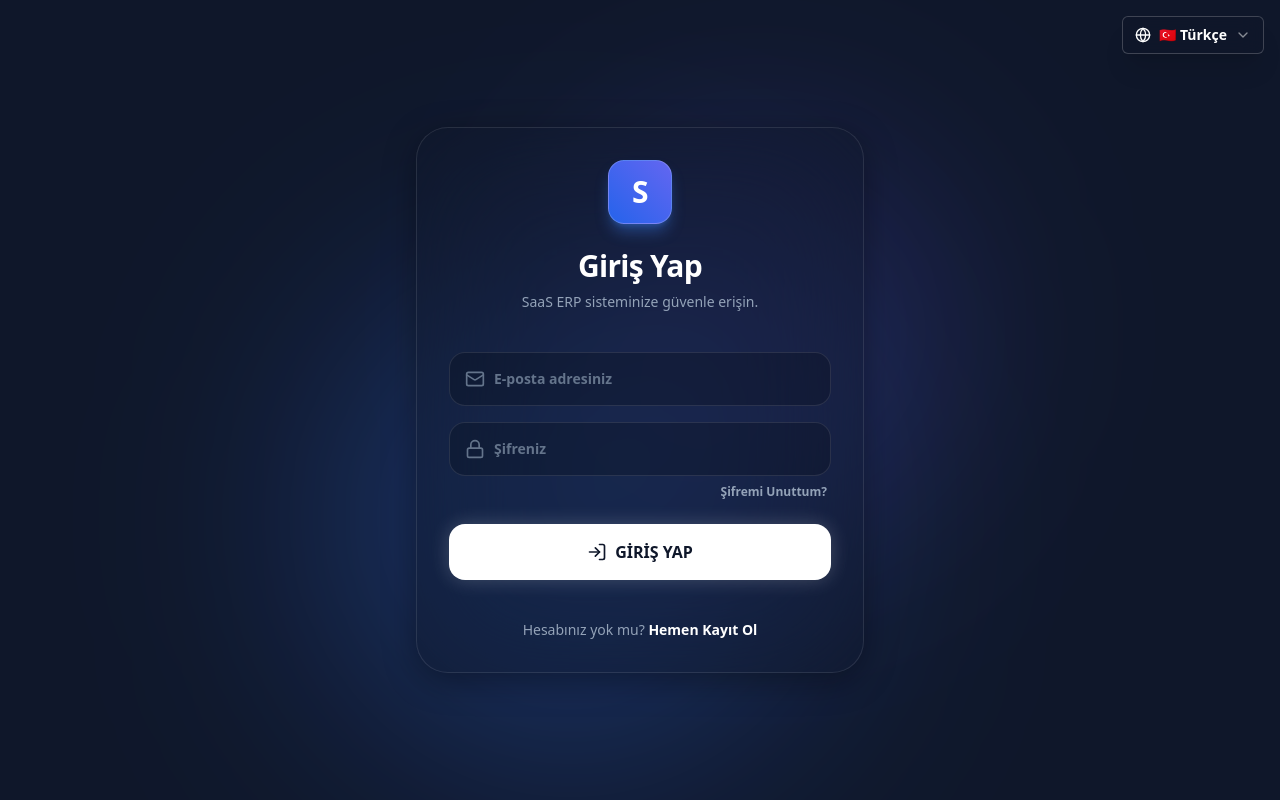
Login Page — Edge Cases › LG-EC-01: supabase auth hatası döndüğünde hata mesajı gösterilir
The image size is (1280, 800).
Step 1. Type "wrong@test.com" into the field with placeholder "E-posta adresiniz" → (640, 379), box left=449, top=352, right=831, bottom=406
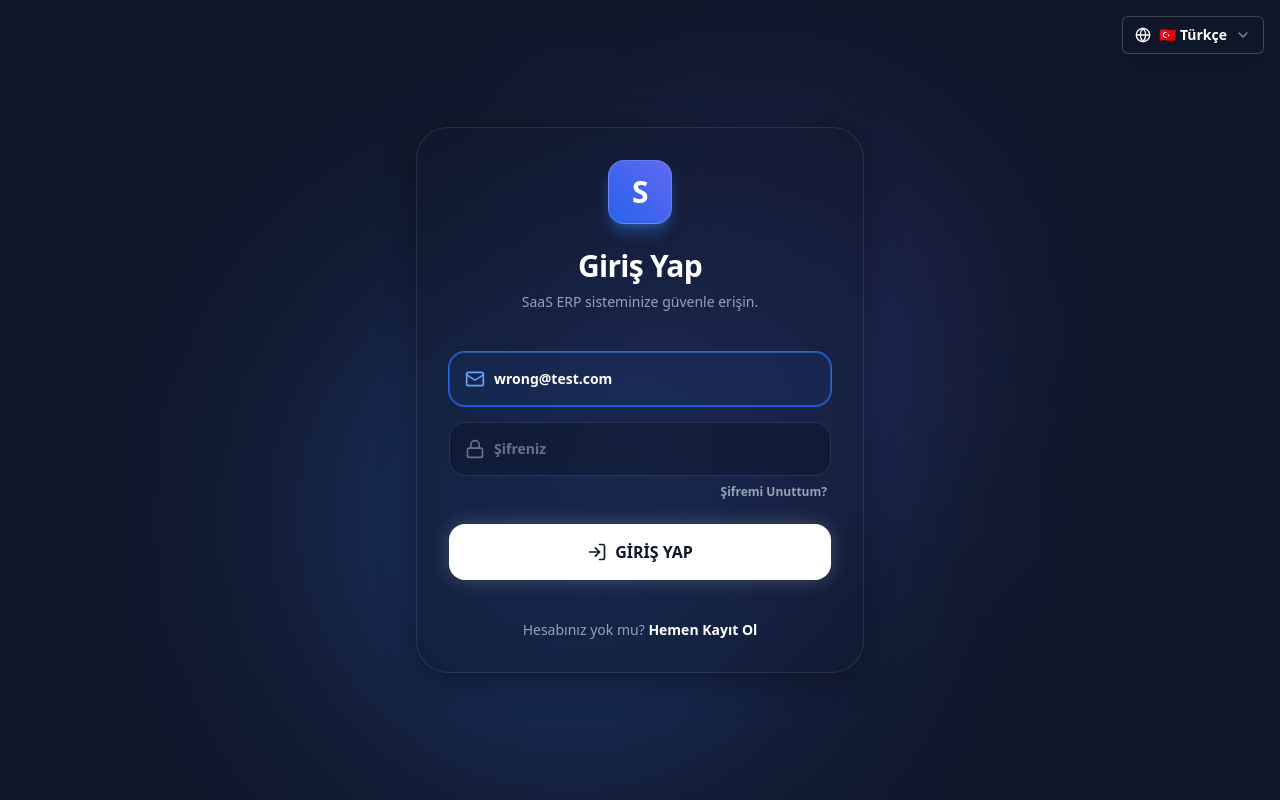
Step 2. Type "wrongpassword" into the password field with placeholder "Şifreniz" → (640, 449), box left=449, top=422, right=831, bottom=476
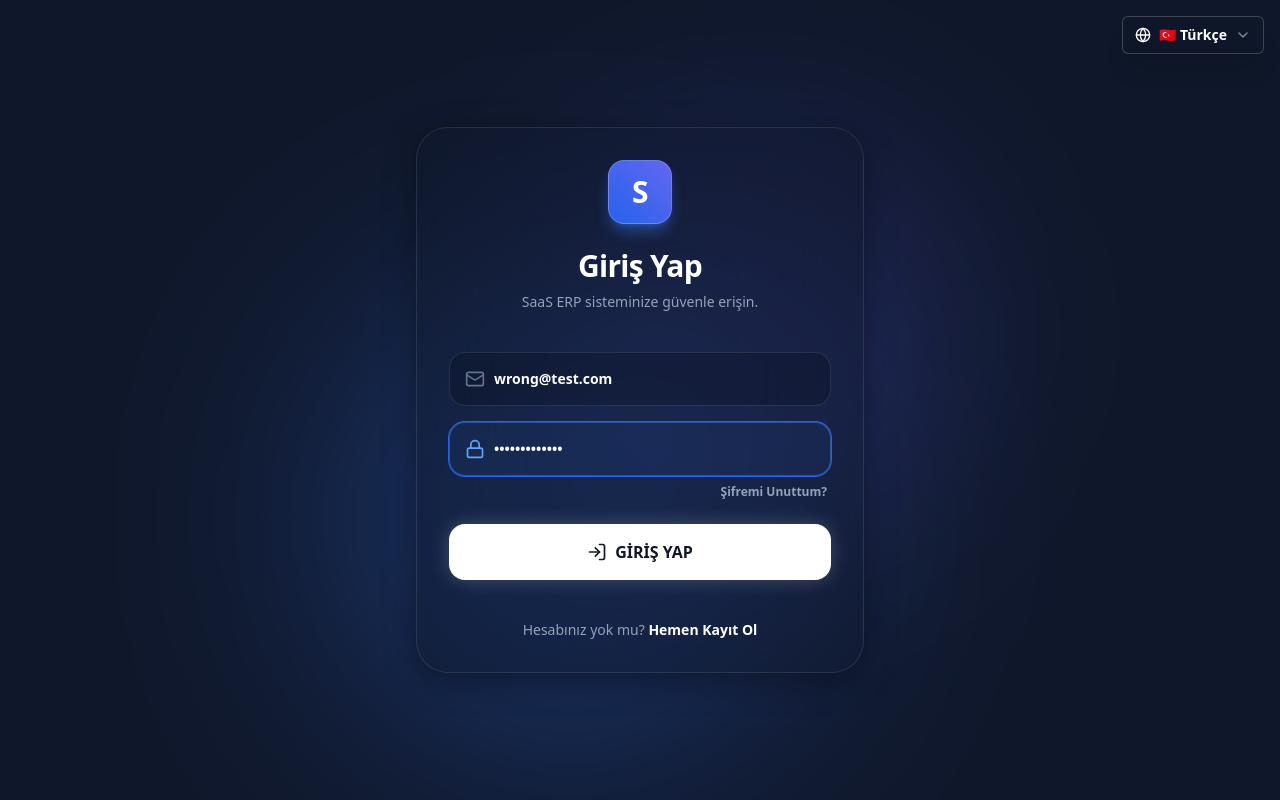
Step 3. Click the button "GİRİŞ YAP" → (640, 552), box left=449, top=524, right=831, bottom=580
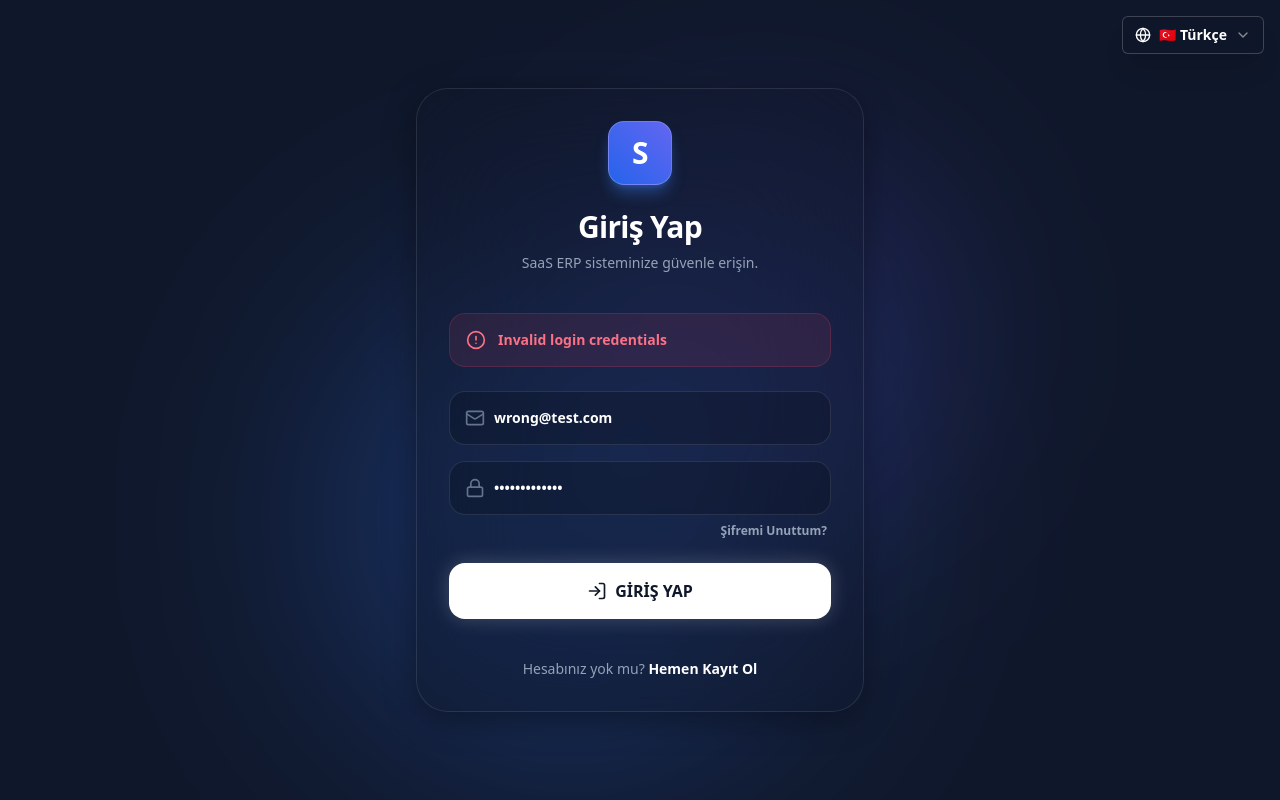
Expected: the text "Invalid login credentials" is shown, left=498, top=330, right=667, bottom=350
